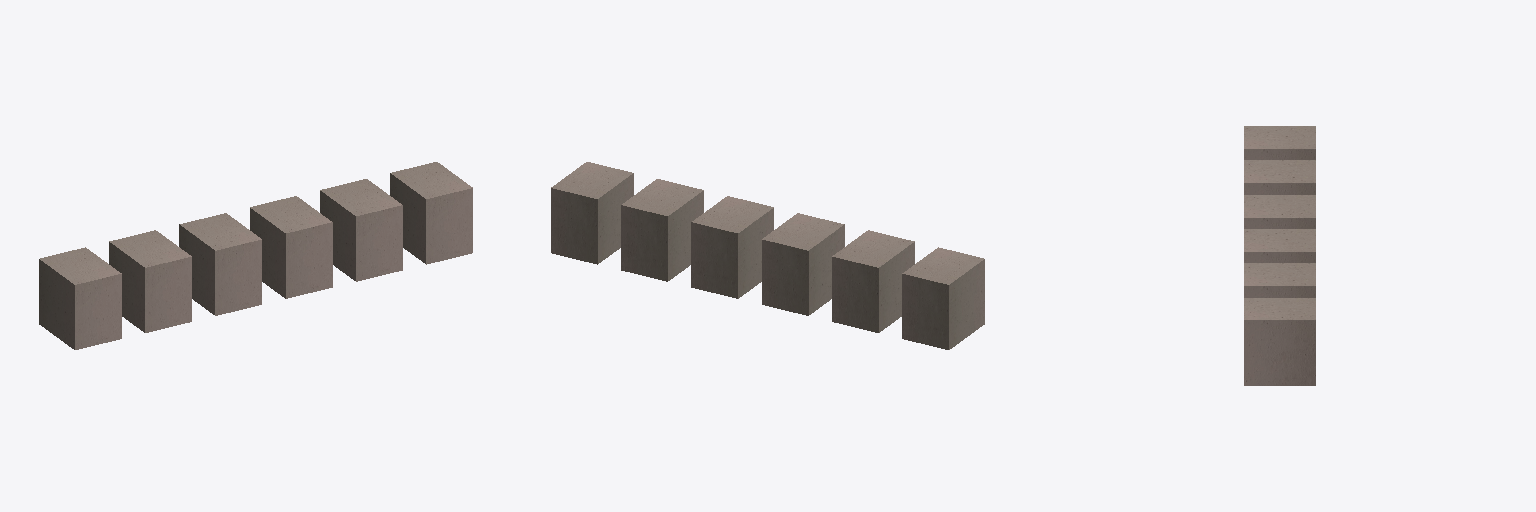
3 renders of one model, left to right at view 1: azimuth 30°, elevation 25°; view 2: azimuth 150°, elevation 25°; view 3: azimuth 270°, elevation 25°, orthographic.
Parts seen in each view (by area): view 1: Tecla_1.003; view 2: Tecla_1.003; view 3: Tecla_1.003.
Boxes of the visible parts, <box> form: Tecla_1.003: <box>39,162,472,349</box>; Tecla_1.003: <box>551,162,984,349</box>; Tecla_1.003: <box>1244,126,1315,385</box>.
Bounding box in the file's own units: 0.8271 × 0.1297 × 0.1297.
Materials: 1 (1 with a texture image).